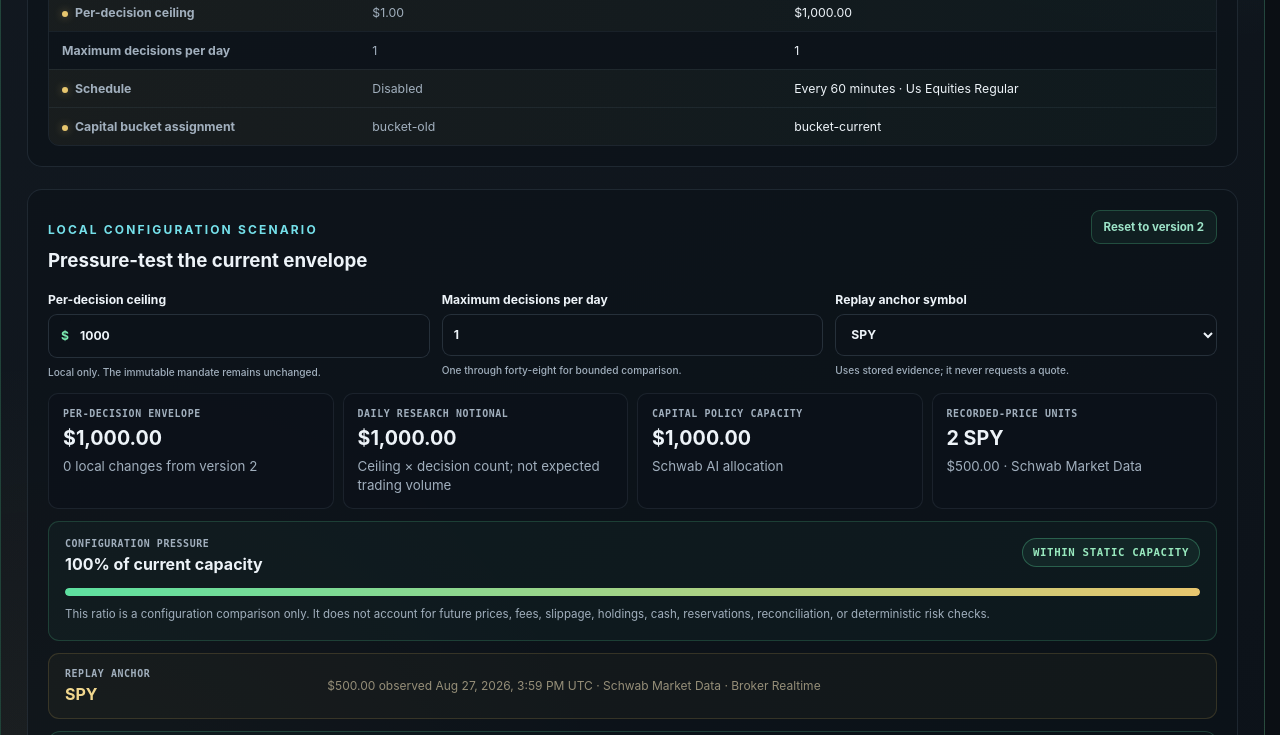
Test: Strategy Simulation Workbench › creates only a confirmed immutable draft from the two reviewed limits
(page scrolled)
Replace the text in the number field named "Scenario per-decision ceiling" with "500". click: (249, 336)
box: [69,315,429,357]
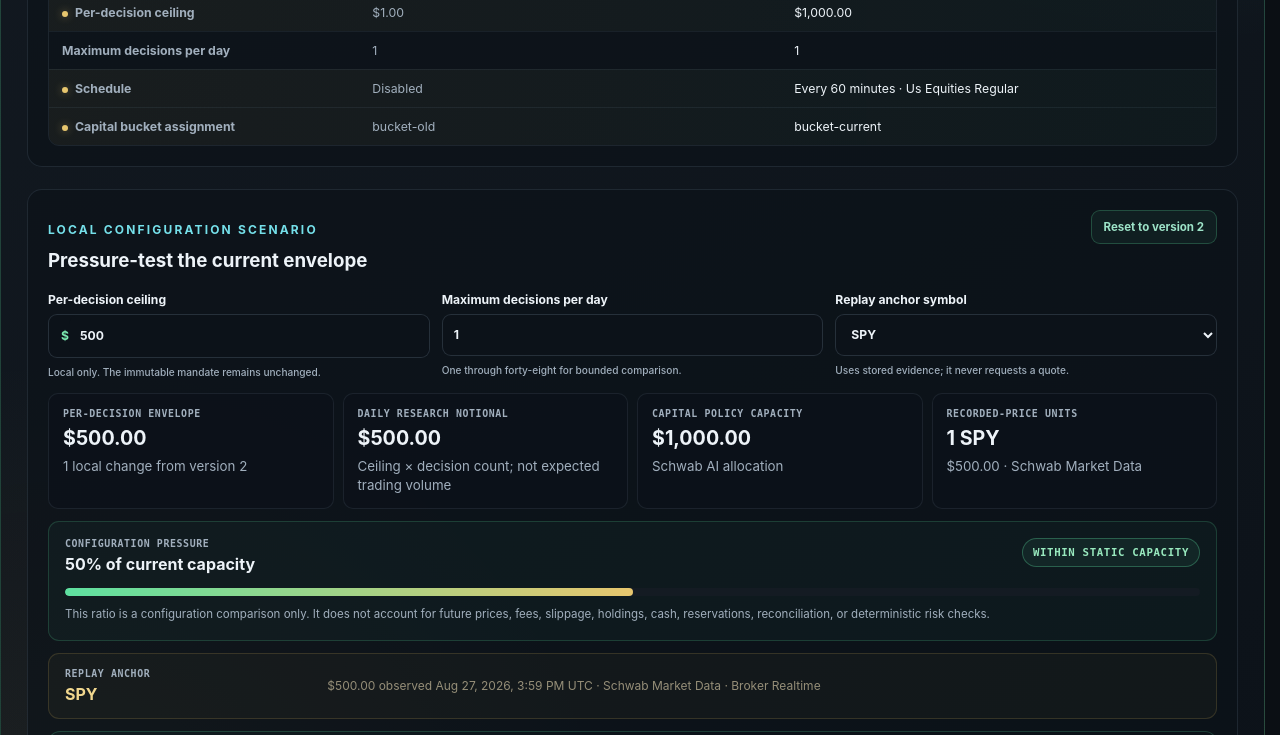
Replace the text in the number field named "Scenario maximum decisions per day" with "2". click: (633, 335)
box: [442,314,823,356]
(page scrolled)
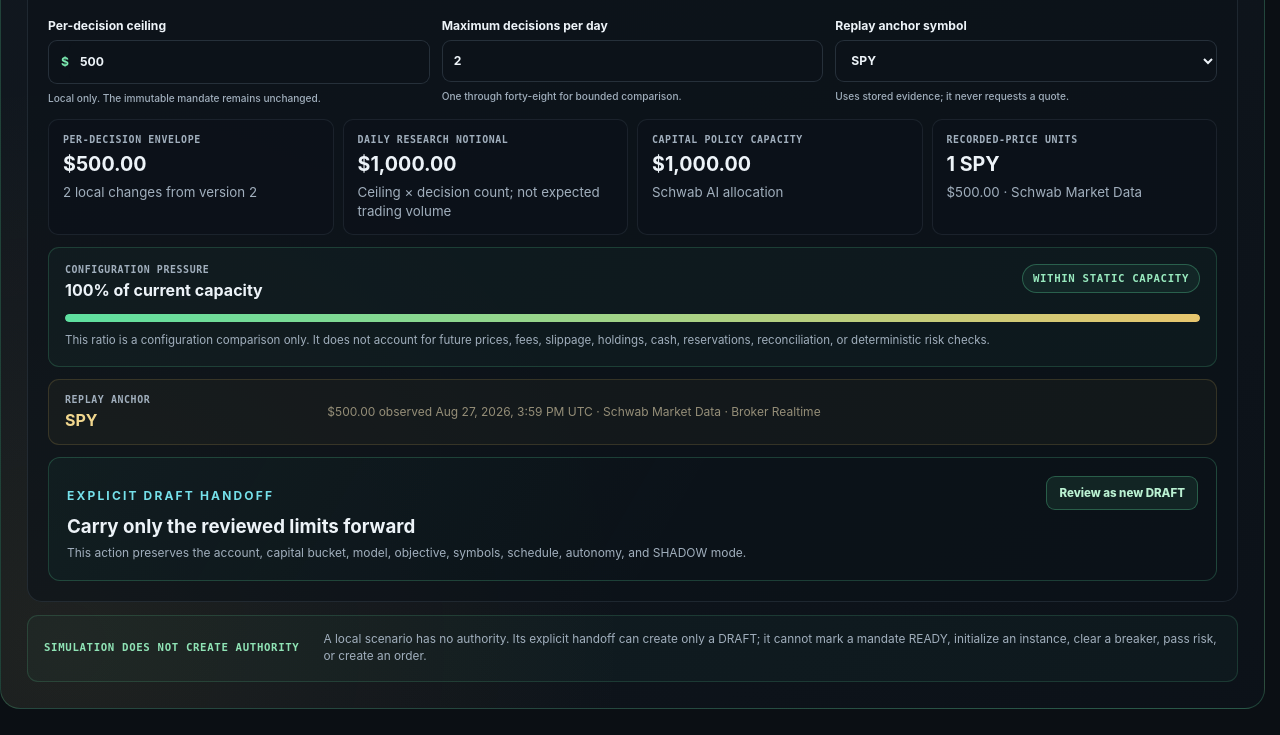
Check: the button "Review as new DRAFT" is enabled
Click the button "Review as new DRAFT". click: (1122, 493)
box: [1046,476,1198,510]
(page scrolled)
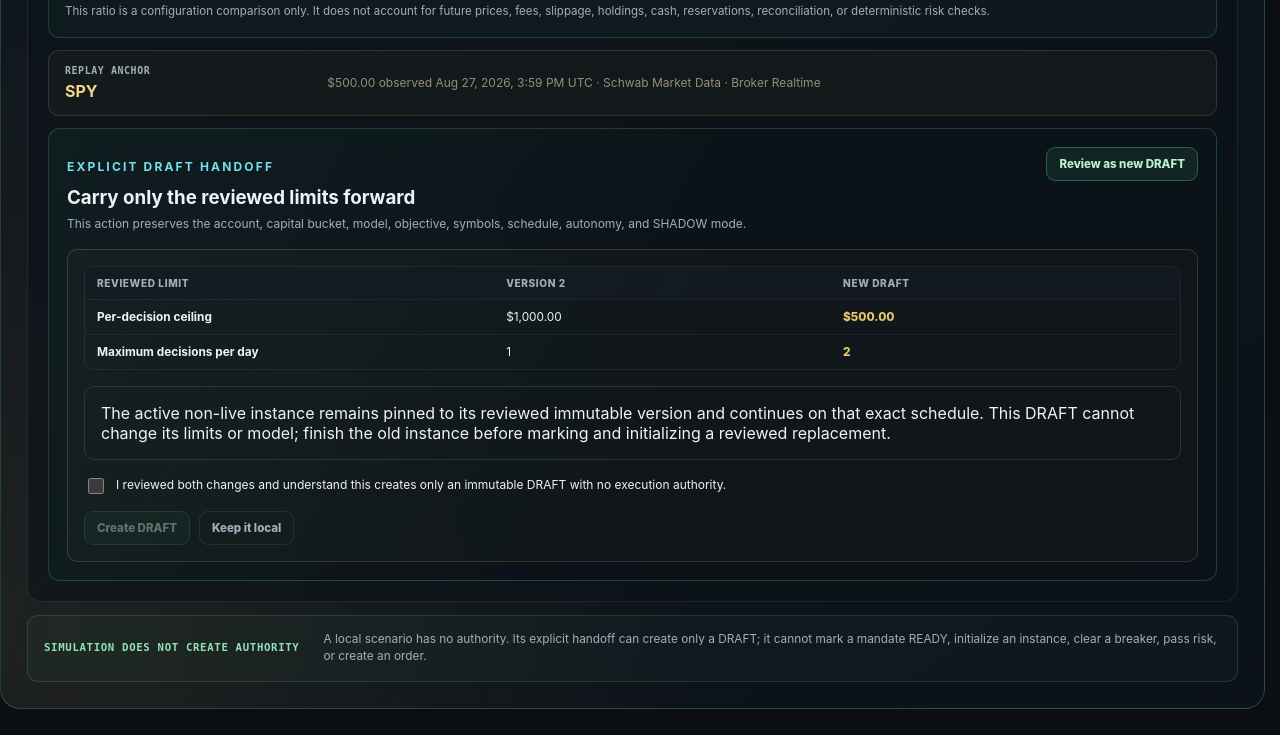
Check: the text "$500.00" is shown, box [843,310,895,324]
Check: the text "continues on that exact schedule" is shown, box [101,403,1134,443]
Check: the button "Create DRAFT" is disabled, box [84,511,190,545]
Click the checkbox labelled "I reviewed both changes and understand". click: (96, 486)
box: [88,478,104,494]
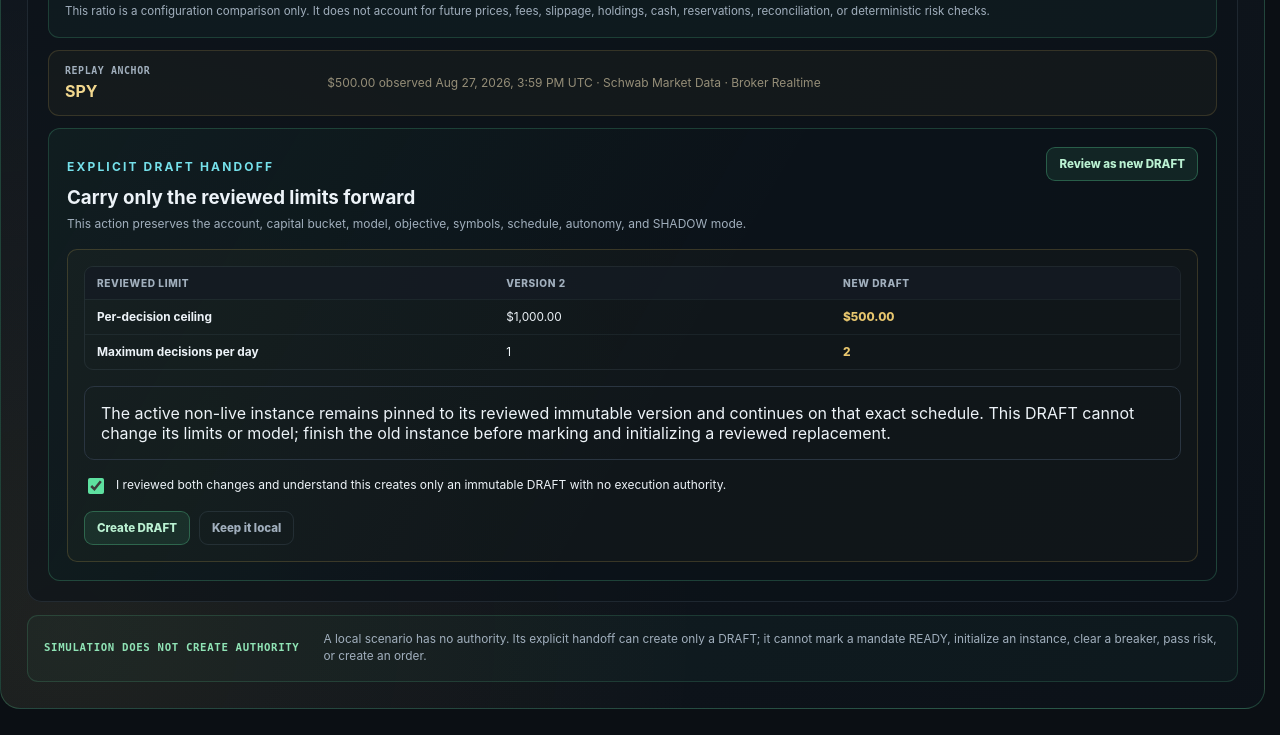
Click the button "Create DRAFT". click: (137, 528)
box: [84,511,190,545]
(page scrolled)
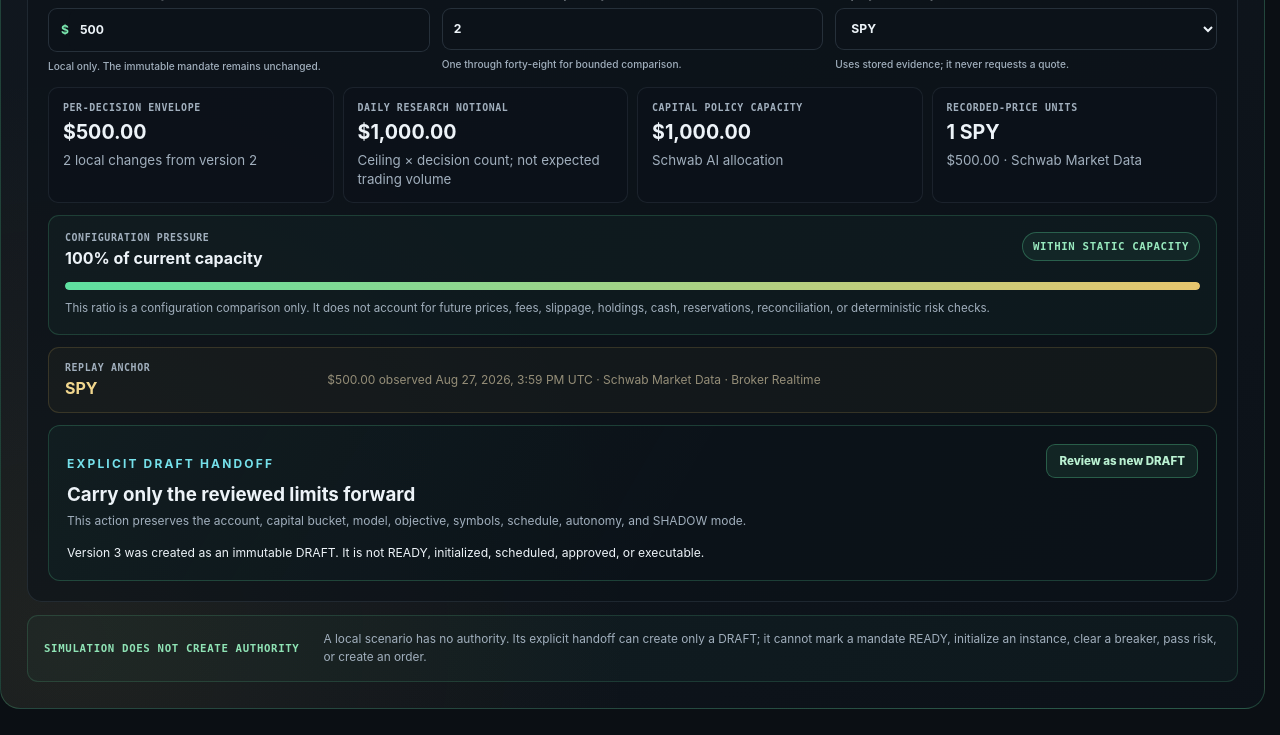
Check: the text "Version 3 was created as an immutable DRAFT" is shown, box [67,545,704,560]
